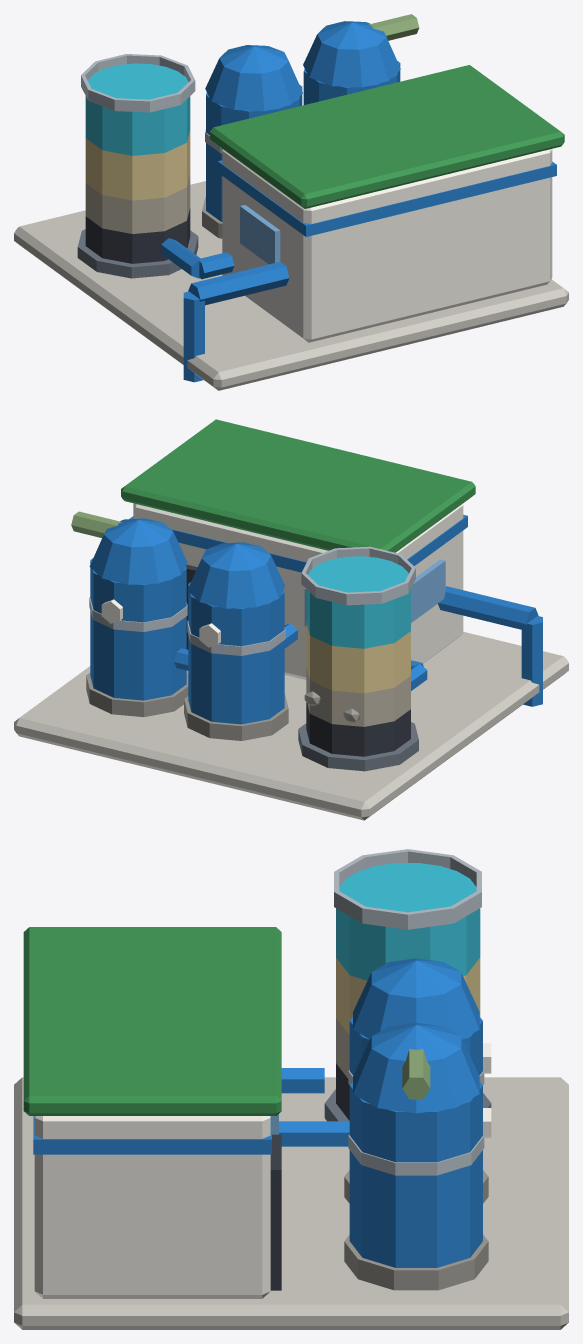
File: kit-cidade-estacao-filtragem.glb
3 renders of one model, top to bottom at view 1: azimuth 30°, elevation 25°; view 2: azimuth 150°, elevation 25°; view 3: azimuth 270°, elevation 25°, orthographic. The views are drawn at different scales.
Visible parts, largest first — view 1: corpo; view 2: corpo; view 3: corpo.
Boxes of the visible parts, <box> form: corpo: <box>14,14,568,390</box>; corpo: <box>14,419,568,820</box>; corpo: <box>14,849,568,1329</box>.
Bounding box in the file's own units: 2.01 × 1.08 × 2.
